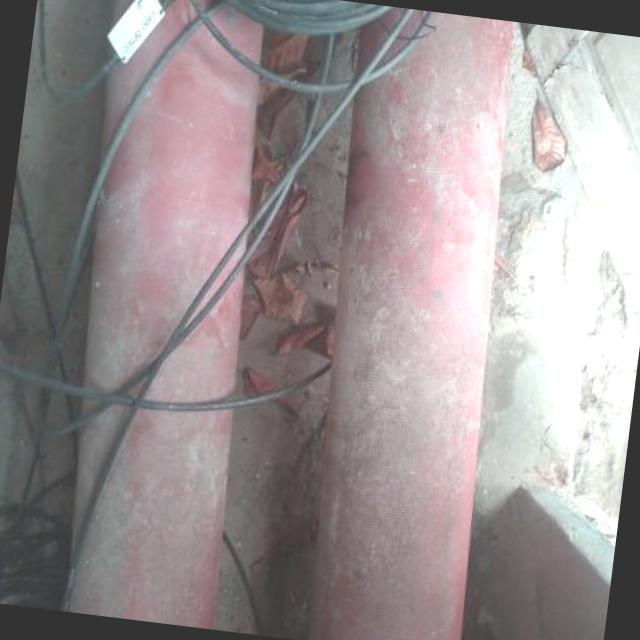gas: (288, 3, 535, 640), (61, 0, 261, 627)
